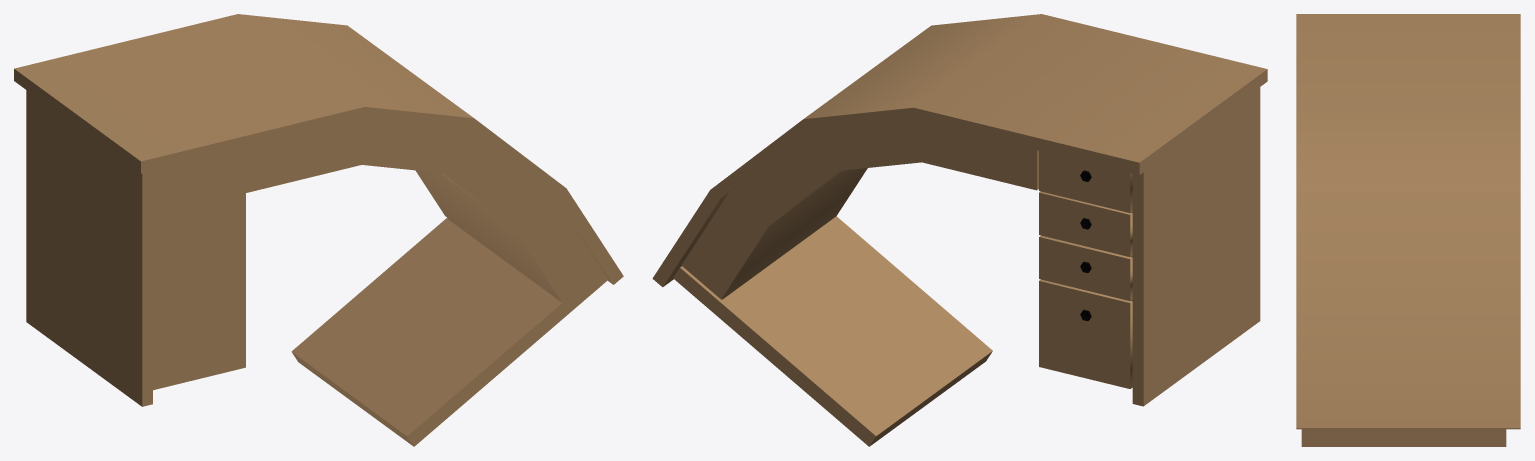
The model's file is desk.fbx.
3 renders of one model, left to right at view 1: azimuth 30°, elevation 25°; view 2: azimuth 150°, elevation 25°; view 3: azimuth 270°, elevation 25°, orthographic. The views are drawn at different scales.
Parts seen in each view (by area): view 1: polySurface19; view 2: polySurface19; view 3: polySurface19.
Boxes of the visible parts, <box> form: polySurface19: <box>14,14,623,446</box>; polySurface19: <box>652,14,1267,446</box>; polySurface19: <box>1296,14,1520,446</box>.
Bounding box in the file's own units: 178 × 125 × 80.8.
